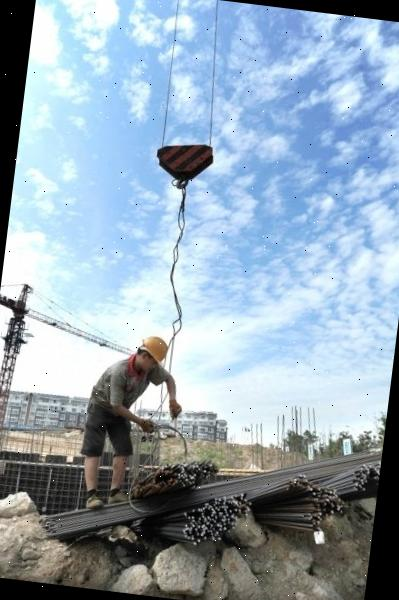helmet: (136, 330, 170, 366)
no_wear: (88, 360, 150, 418)
